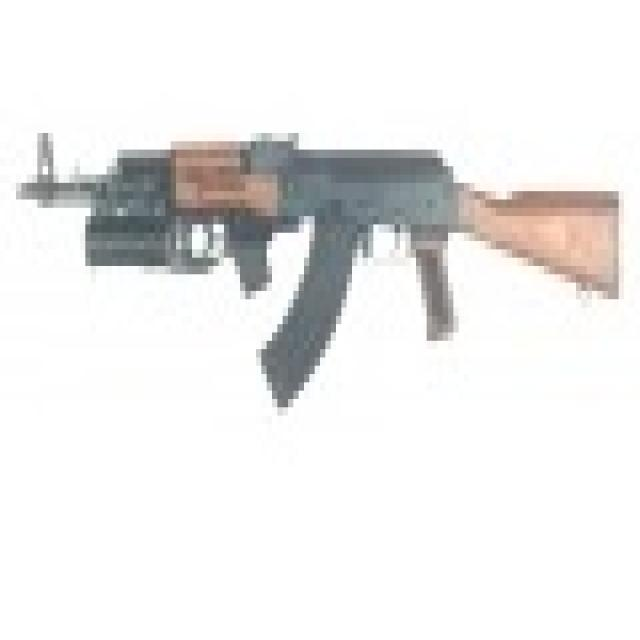Gun: (14, 83, 620, 444)
